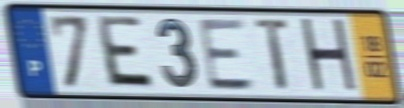3: (154, 15, 200, 93)
7: (48, 12, 94, 92)
E: (96, 13, 158, 93), (196, 17, 259, 93)
H: (297, 15, 362, 98)
T: (253, 15, 293, 96)
